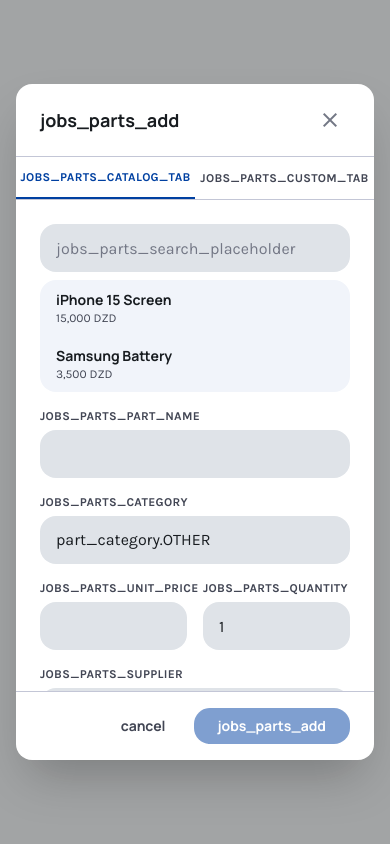
it: AddPartDialog › switches to custom tab
Click the button "jobs_parts_custom_tab". click: (284, 178)
box: [195,157,374,199]
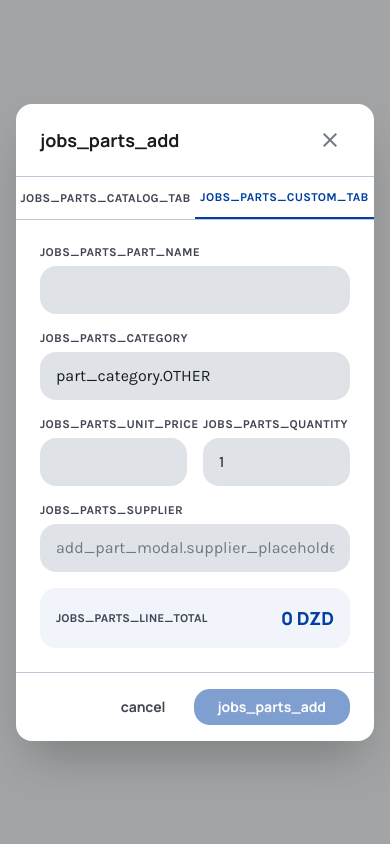
Result: the button "iPhone 15 Screen" is gone
Result: the button "Samsung Battery" is gone
